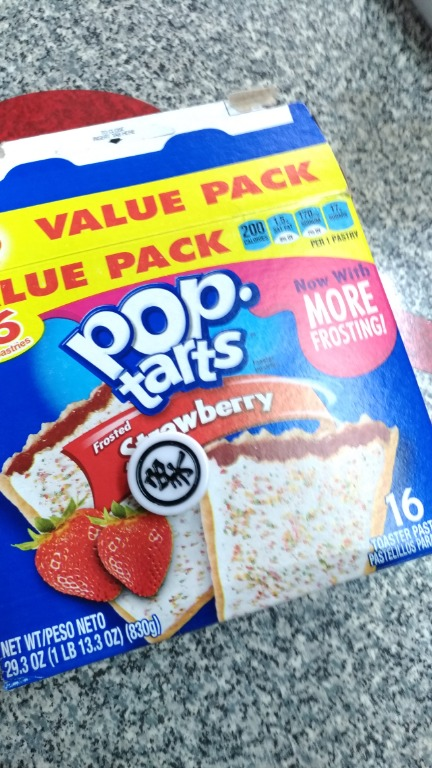b-elephant: (117, 426, 231, 534)
